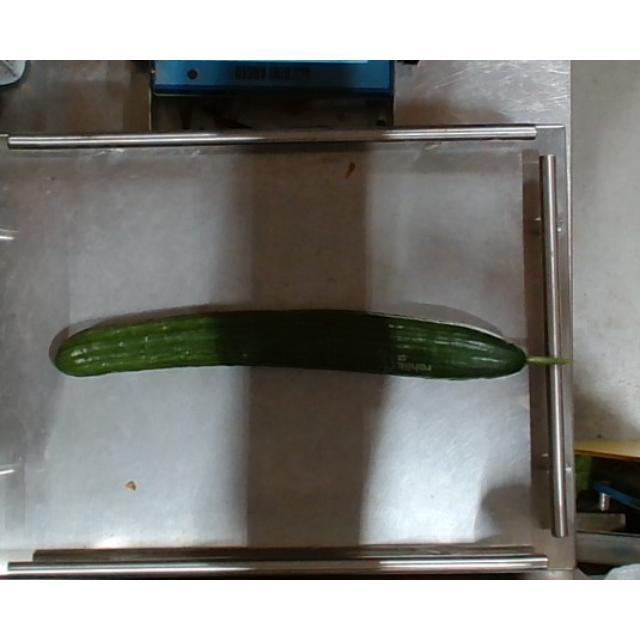cucumber: (53, 300, 565, 384)
